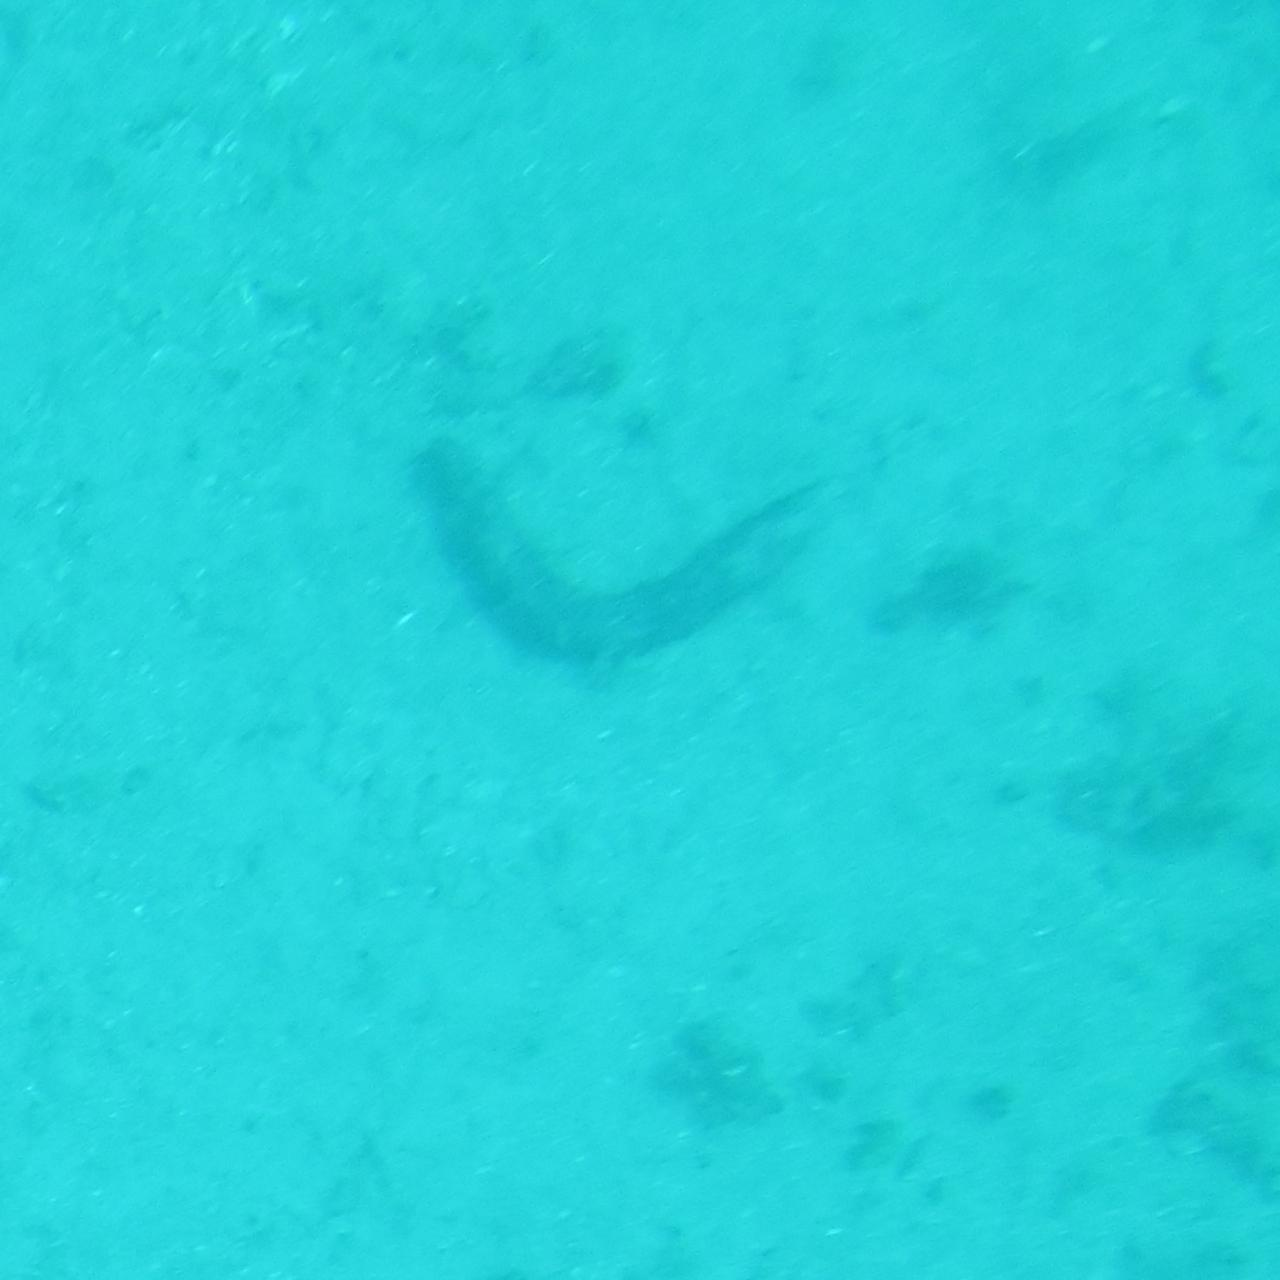Holothuria tubulosa: (411, 424, 869, 688)
